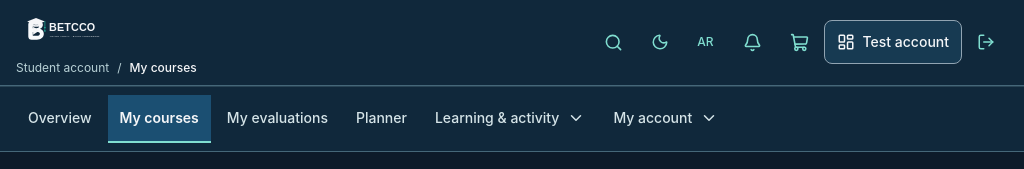
it: role shell destinations › keeps logout pending disabled
Expected: the link with aria-label "Student account" is shown, [824,20,962,64]
Click the button named "Log out" at point(986, 42), box [964,20,1008,64]
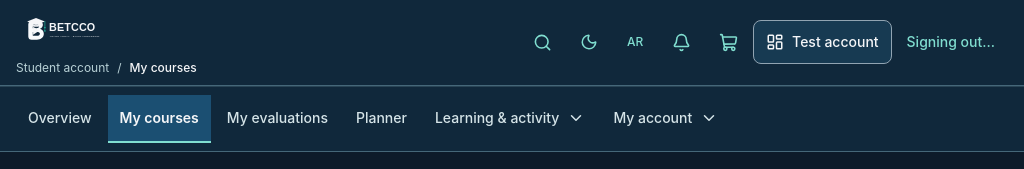
Expected: the button with aria-label "Log out" is disabled, [894,20,1008,64]
